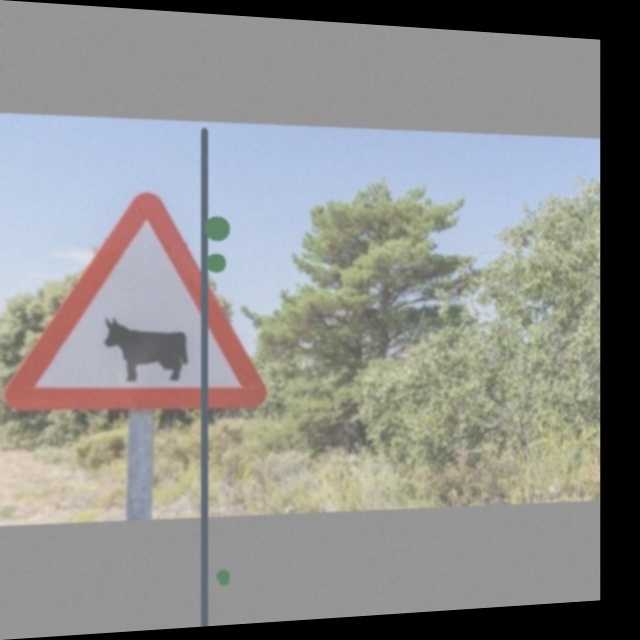Cattle: (39, 199, 254, 413)
